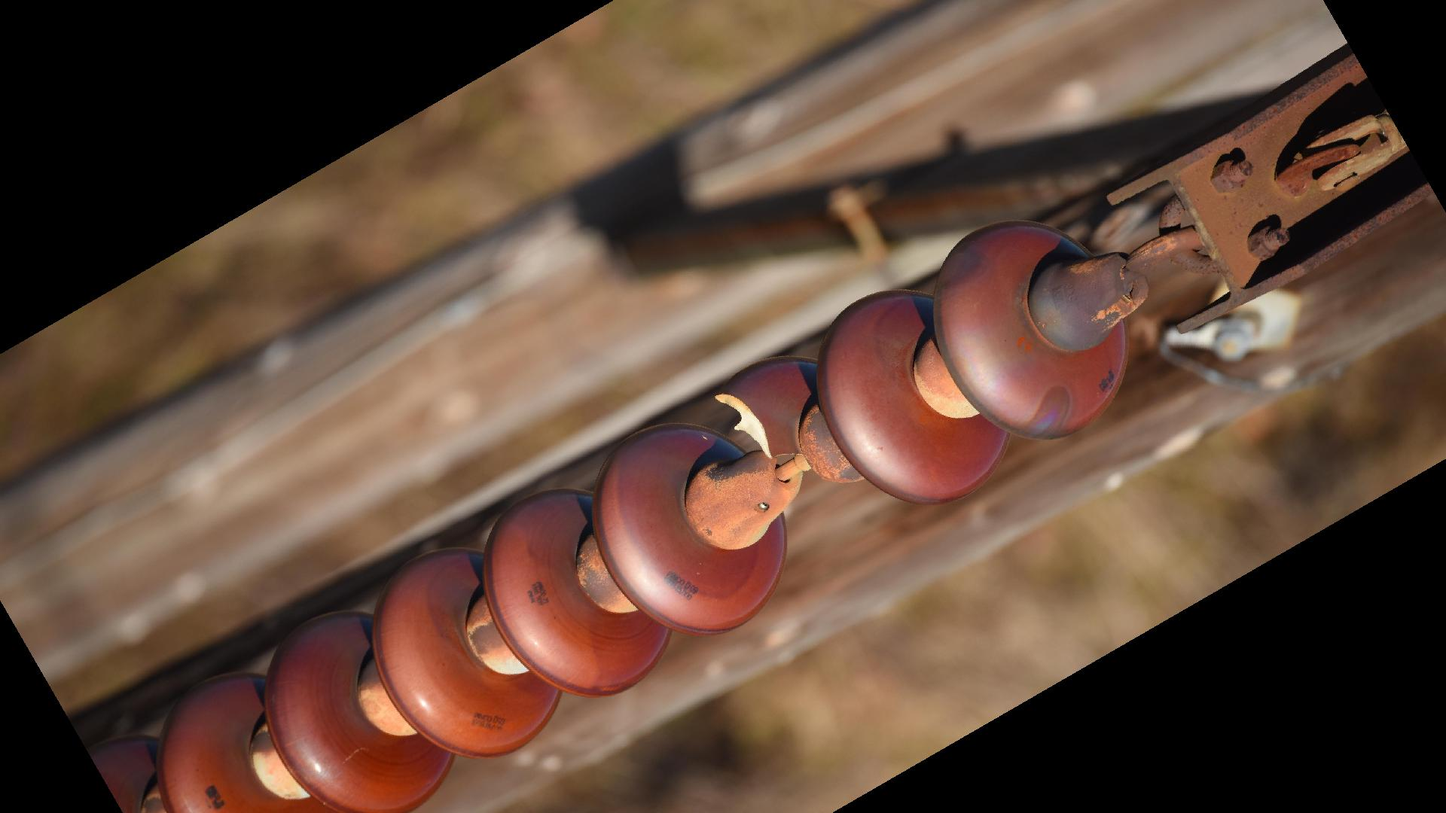insulator: (85, 218, 1139, 813)
insulator_breakage: (711, 385, 802, 466)
